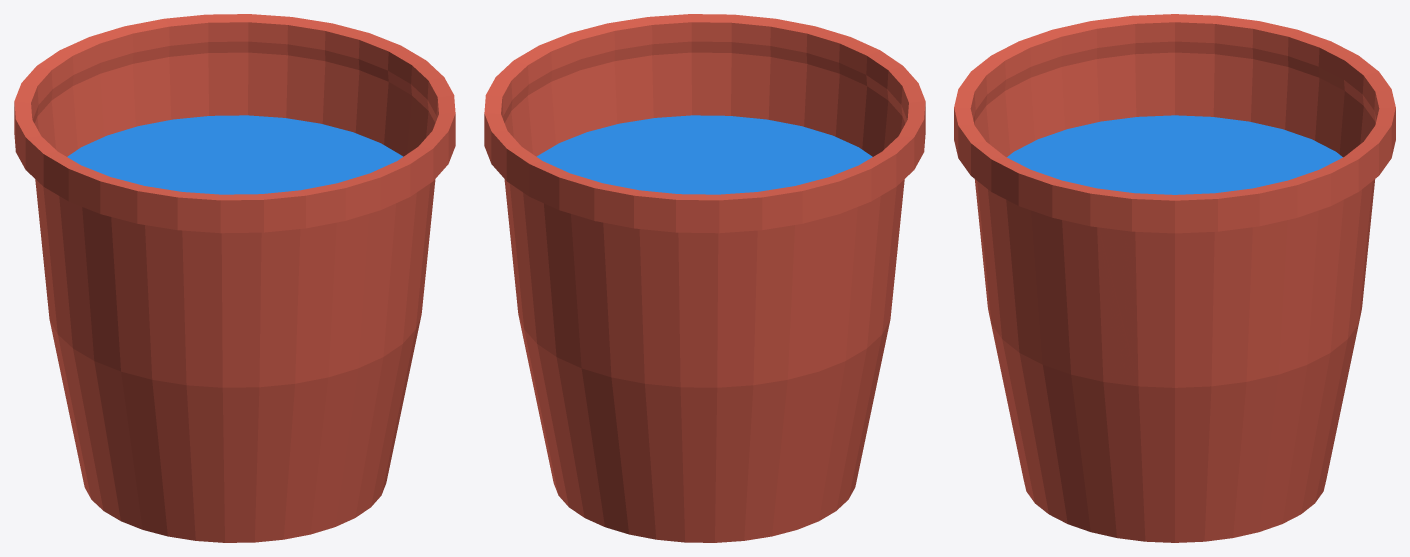
Rendered from Bucket.glb.
3 views of the same model, side by side, from view 1: azimuth 30°, elevation 25°; view 2: azimuth 150°, elevation 25°; view 3: azimuth 270°, elevation 25° (orthographic).
Visible parts, largest first — view 1: Cylinder; view 2: Cylinder; view 3: Cylinder.
Part boxes in pixels (x1,y1,x2,y2): Cylinder: (14,14,455,542); Cylinder: (484,14,925,542); Cylinder: (954,14,1395,542).
Size of the model in its own units: 2.16 by 2.01 by 2.16.
